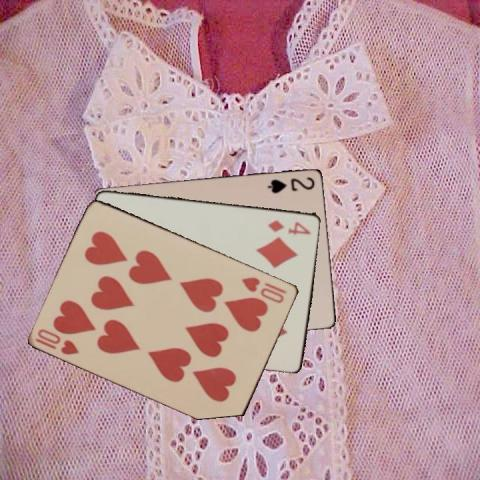10h: (238, 273, 288, 305), (32, 325, 80, 356)
2s: (264, 173, 316, 195)
4d: (266, 217, 314, 235)
